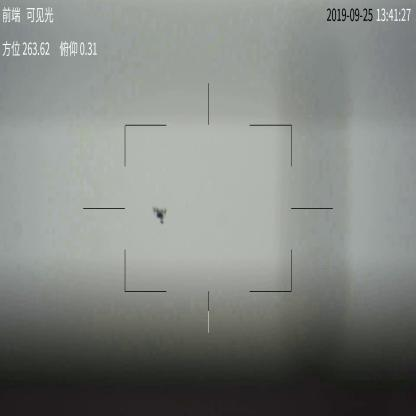uav: (152, 203, 168, 226)
